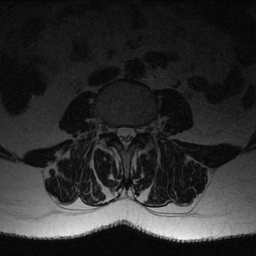CCS_normal: (121, 118, 129, 156)
LFS_normal: (137, 119, 144, 140)
LLS_normal: (129, 121, 136, 145)
RFS_normal: (106, 118, 115, 139)
RLS_normal: (114, 120, 122, 144)
